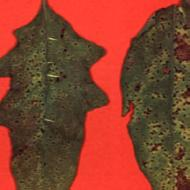Tomato Septoria leaf spot: (0, 0, 111, 190), (120, 0, 190, 190)
